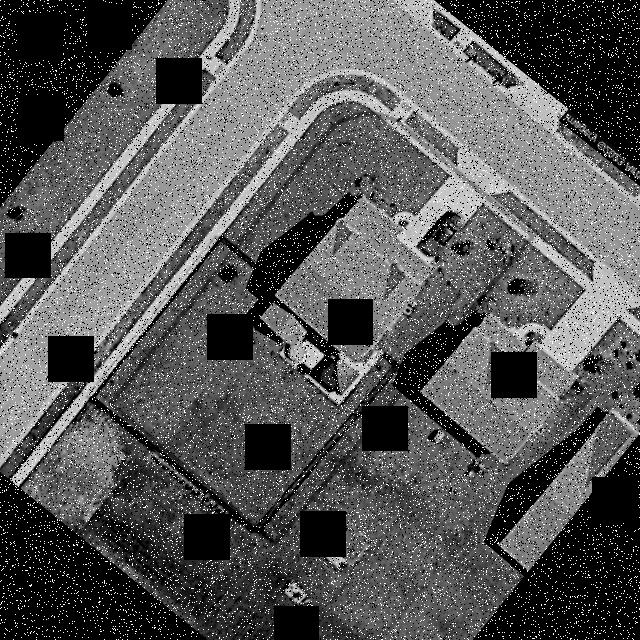Driveway: (391, 176, 482, 265)
Extra Driveway: (457, 149, 507, 193)
Extra Lawn: (97, 106, 369, 404), (71, 126, 286, 387), (290, 75, 399, 117), (406, 112, 457, 162), (495, 192, 545, 233)
Extra Sidewalk: (84, 91, 534, 393), (391, 100, 414, 122), (279, 112, 300, 133)
House: (257, 198, 434, 405)
